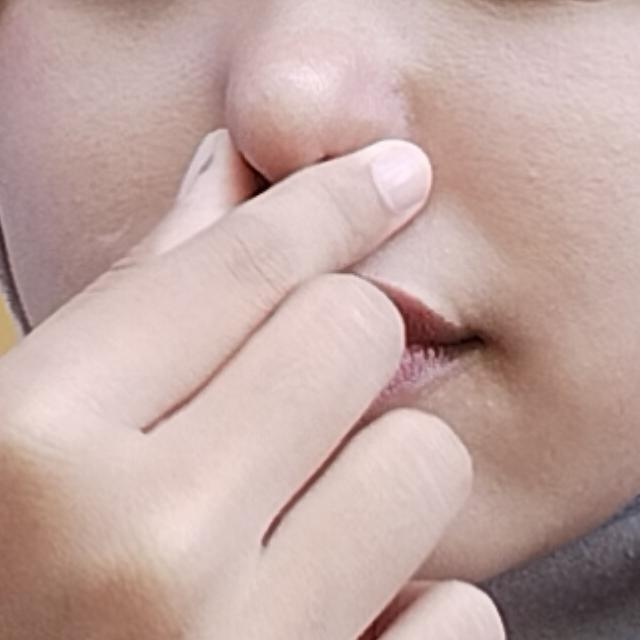bau: (0, 38, 616, 640)
